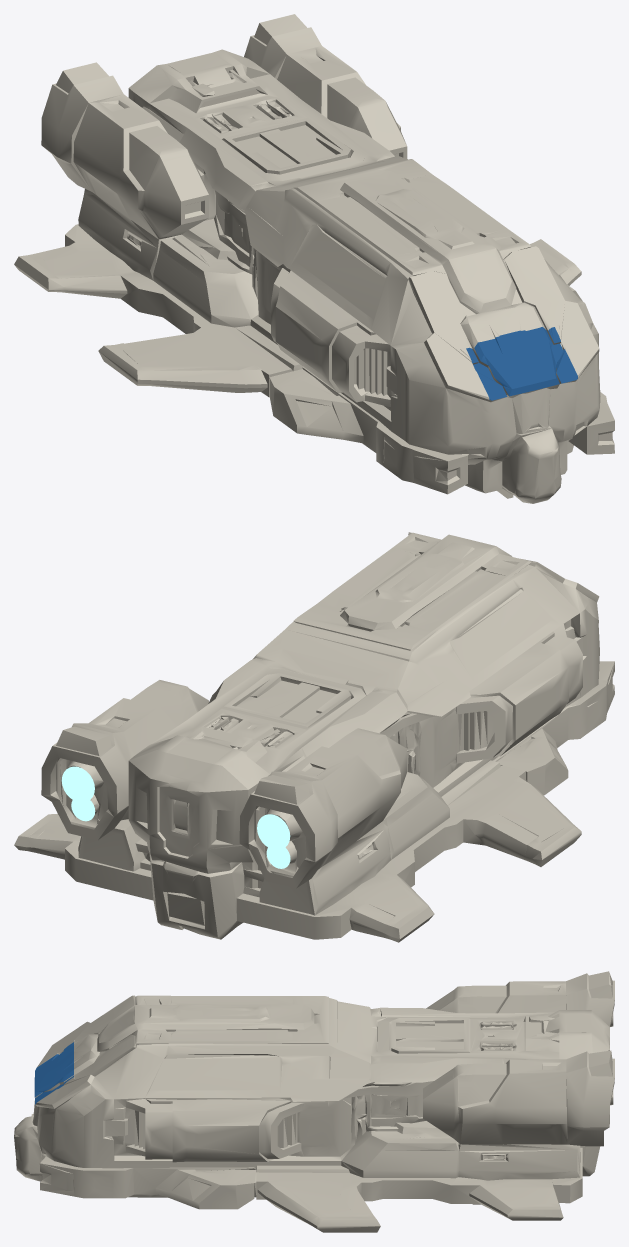
The model's file is type-7.glb.
3 renders of one model, top to bottom at view 1: azimuth 30°, elevation 25°; view 2: azimuth 150°, elevation 25°; view 3: azimuth 270°, elevation 25°, orthographic. The views are drawn at different scales.
Visible parts, largest first — view 1: type-7; view 2: type-7; view 3: type-7.
Boxes of the visible parts, bbox=[...] form: type-7: bbox=[14, 14, 614, 503]; type-7: bbox=[14, 532, 614, 942]; type-7: bbox=[14, 971, 614, 1232].
Bounding box in the file's own units: 56.12 × 25.34 × 81.53.
